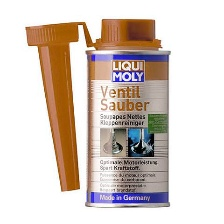cleaning_solution: (80, 18, 175, 211)
